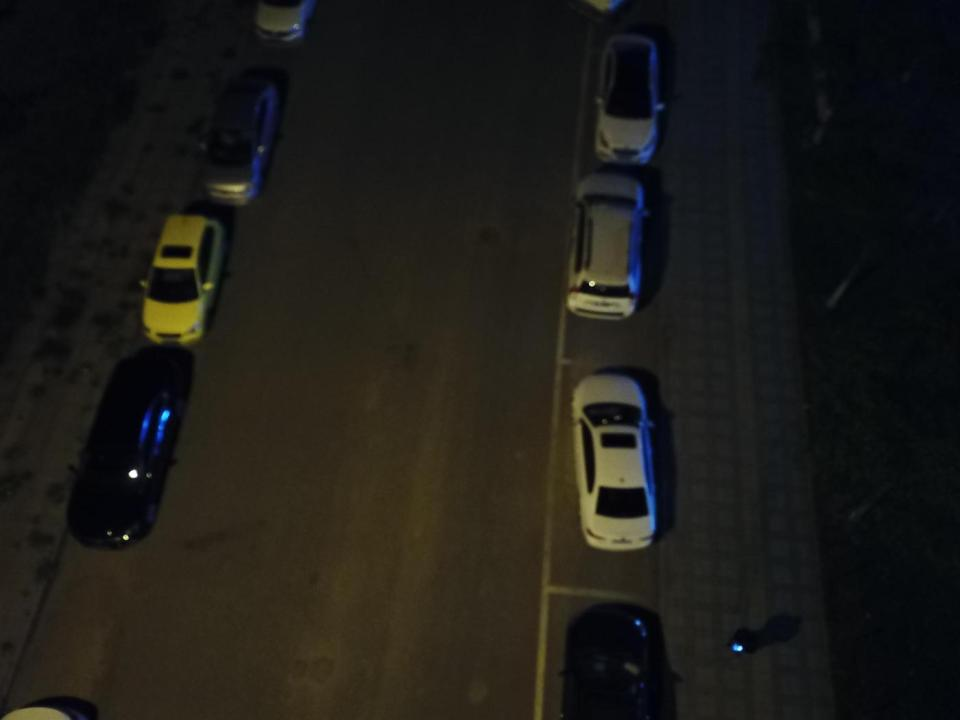car: (66, 354, 186, 551), (568, 374, 657, 553), (564, 172, 650, 320), (139, 213, 224, 348), (560, 606, 654, 720), (199, 76, 280, 206), (594, 34, 665, 166)
